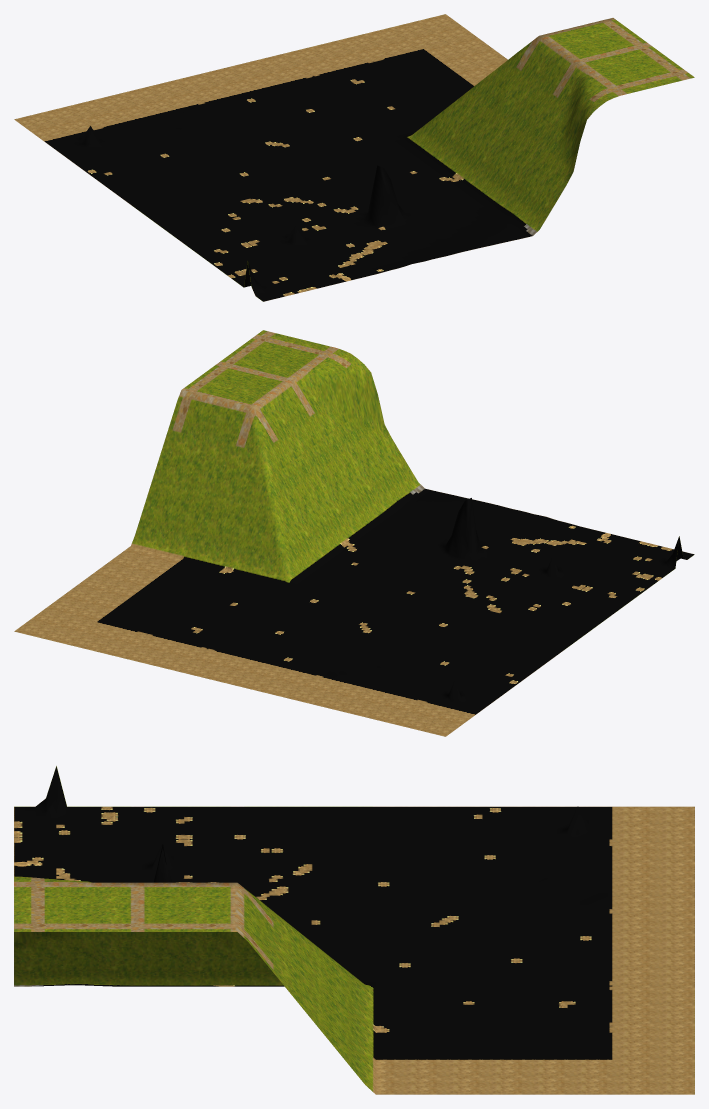
The model's file is terrain.glb.
The picture shows the model from 3 angles, top to bottom: view 1: azimuth 30°, elevation 25°; view 2: azimuth 150°, elevation 25°; view 3: azimuth 270°, elevation 25°; orthographic projection. The views are drawn at different scales.
Visible parts, largest first — view 1: terrain_3_5; view 2: terrain_3_5; view 3: terrain_3_5.
Part boxes in pixels (left/top/right/bottom): terrain_3_5: left=14, top=14, right=694, bottom=301; terrain_3_5: left=14, top=330, right=694, bottom=736; terrain_3_5: left=14, top=766, right=694, bottom=1094.
Bounding box in the file's own units: 512 × 135 × 512.
Materials: 1 (1 with a texture image).
